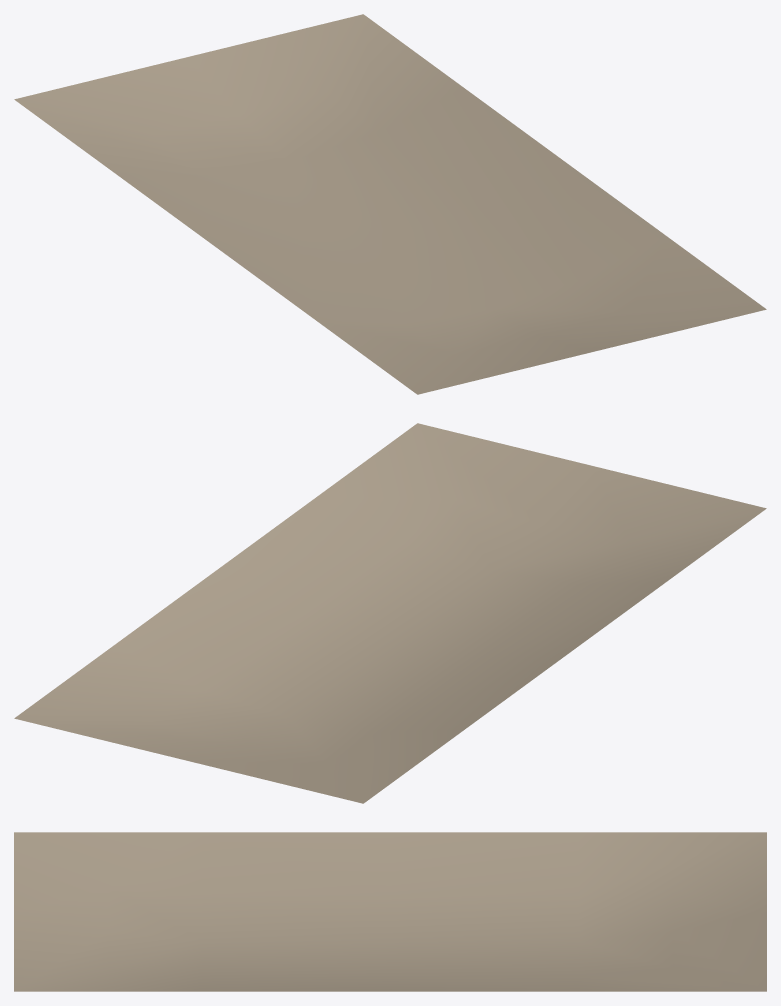
File: SM_Net_Cieling_1x2M.fbx
3 renders of one model, top to bottom at view 1: azimuth 30°, elevation 25°; view 2: azimuth 150°, elevation 25°; view 3: azimuth 270°, elevation 25°, orthographic. The views are drawn at different scales.
Parts seen in each view (by area): view 1: Net_Cieling_1x2; view 2: Net_Cieling_1x2; view 3: Net_Cieling_1x2.
Part boxes in pixels (x1,y1,x2,y2): Net_Cieling_1x2: [14, 14, 766, 394]; Net_Cieling_1x2: [14, 423, 766, 803]; Net_Cieling_1x2: [14, 832, 766, 991].
Size of the model in its own units: 100 by 8.44 by 200.
